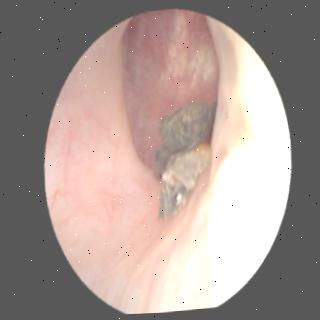stone: (154, 104, 215, 222)
tissue: (48, 16, 283, 315)
